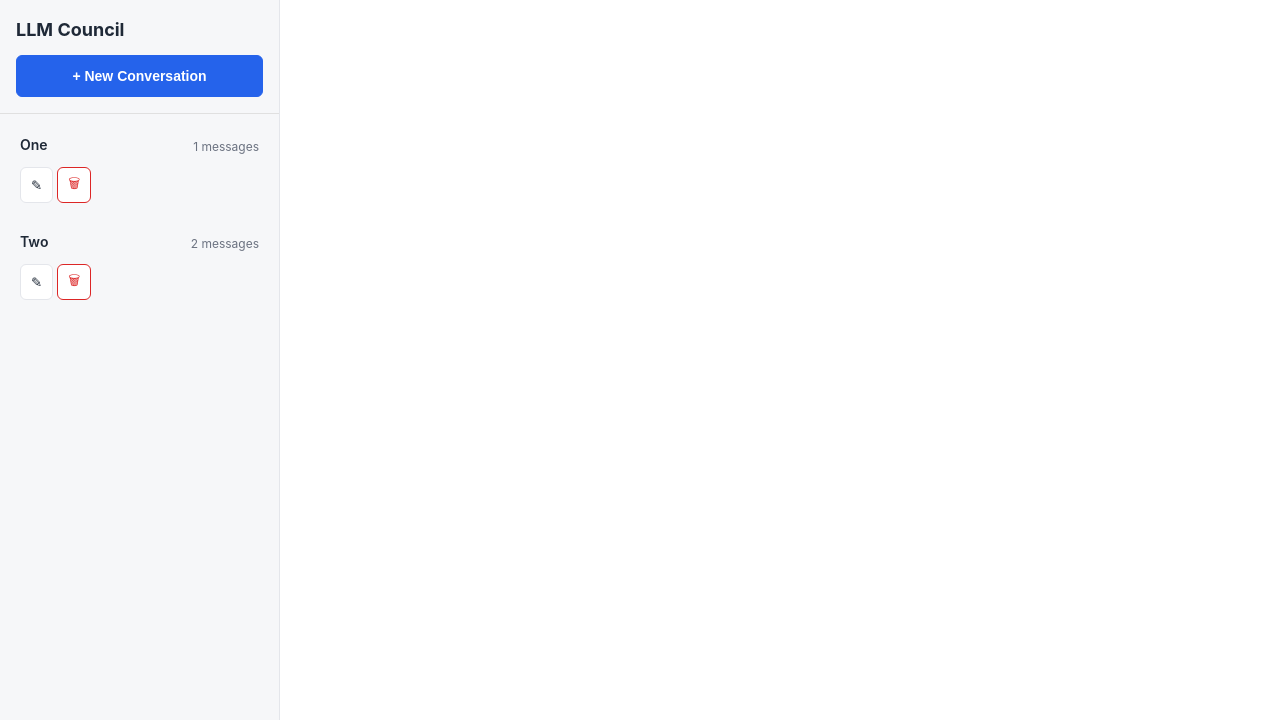
Test: optimistically removes item then confirms success
Click the button named "delete conversation" at (74, 185), box [57,167,91,203]
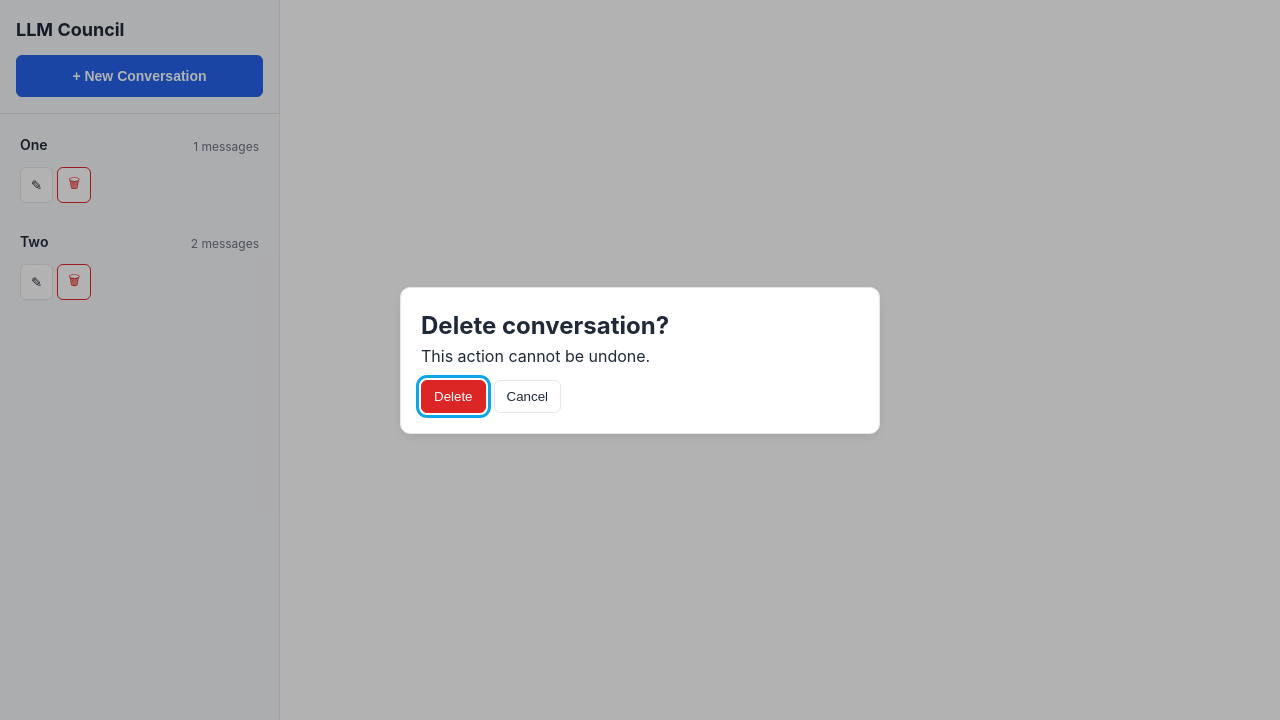
Click the button "Delete" at (453, 396), box [421,380,486,412]
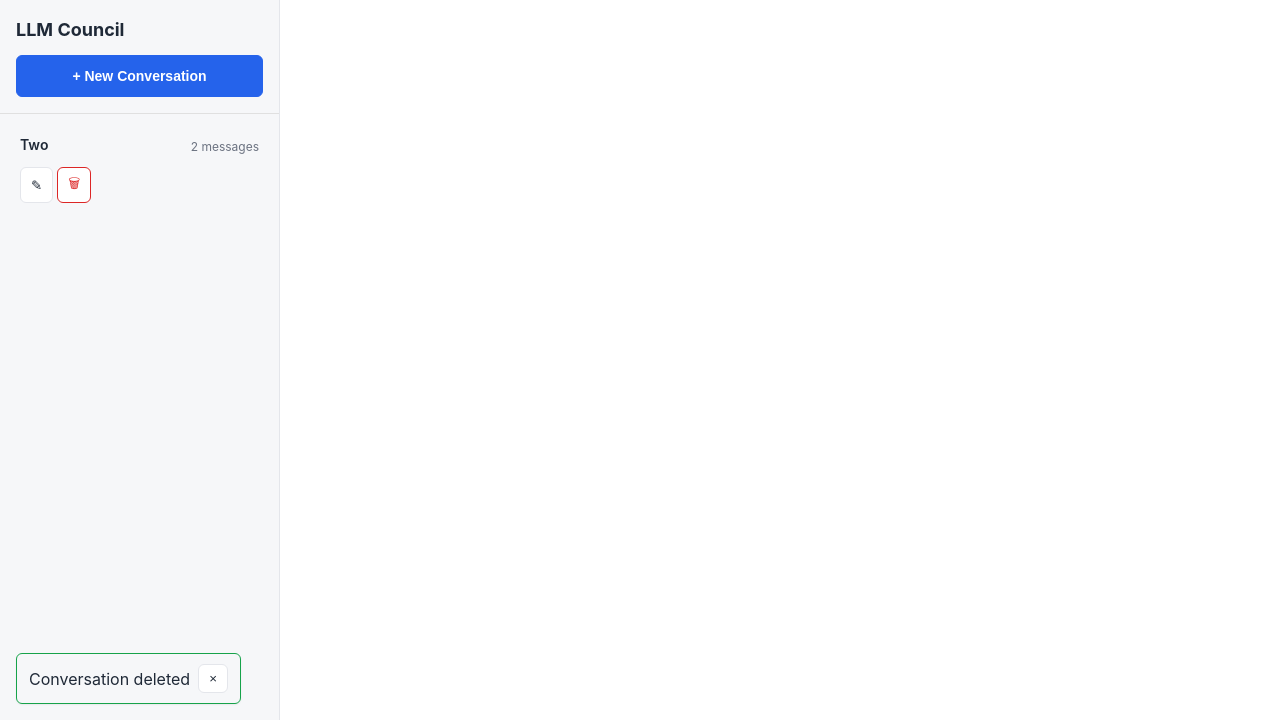
Expected: the number of buttons named "delete conversation" is 1, [57,167,91,203]
